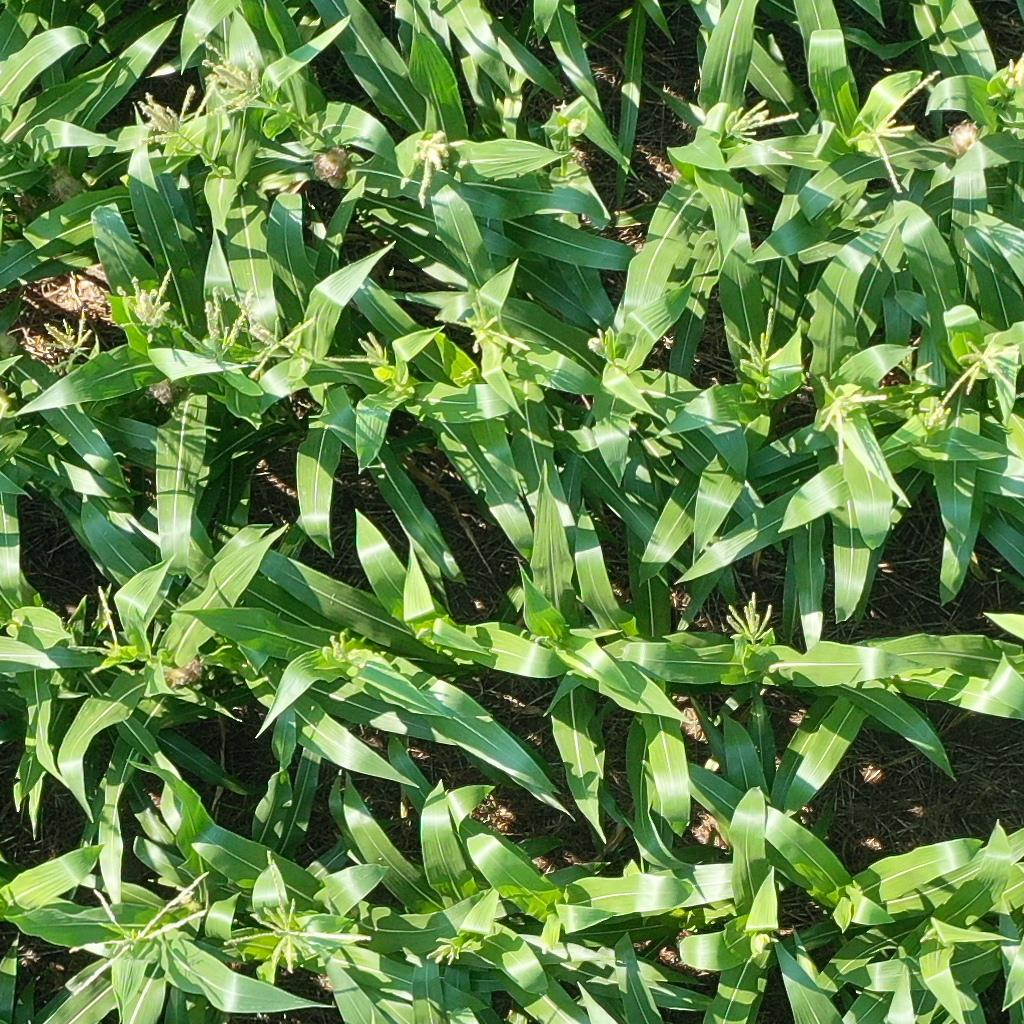Tassel: (222, 847, 374, 976), (68, 867, 210, 999), (847, 66, 940, 203), (224, 289, 320, 378), (811, 376, 891, 465), (433, 288, 531, 356), (192, 34, 272, 117), (941, 334, 1022, 406), (182, 285, 253, 365), (66, 583, 133, 667), (718, 96, 801, 161), (124, 83, 203, 150), (395, 131, 452, 210), (115, 268, 178, 336), (721, 306, 784, 373), (36, 309, 99, 369), (725, 591, 779, 647), (325, 331, 392, 366), (328, 630, 364, 666), (425, 934, 463, 967), (895, 344, 931, 377), (921, 397, 951, 430), (1006, 48, 1024, 92), (591, 327, 618, 354), (756, 932, 768, 953)
